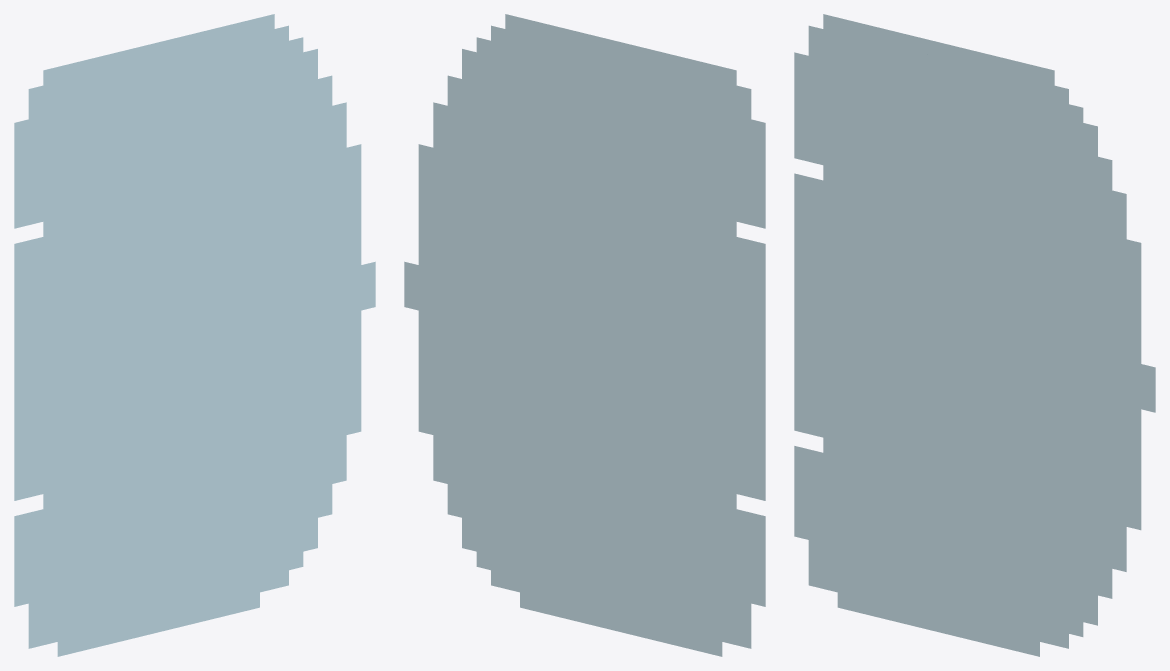
File: wp_water_106.obj
3 views of the same model, side by side, from view 1: azimuth 30°, elevation 25°; view 2: azimuth 150°, elevation 25°; view 3: azimuth 330°, elevation 25° (orthographic).
Bounding box in the file's own units: 0.375 × 0.585 × 0.
1 material, 1 textured.
